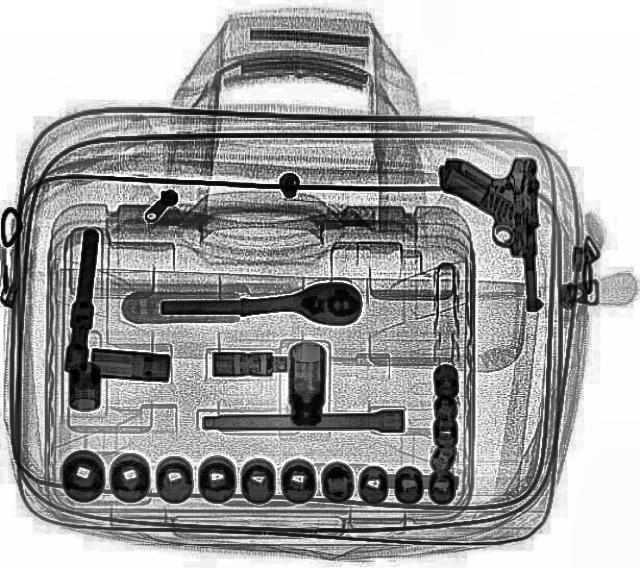Gun: (436, 156, 542, 313)
